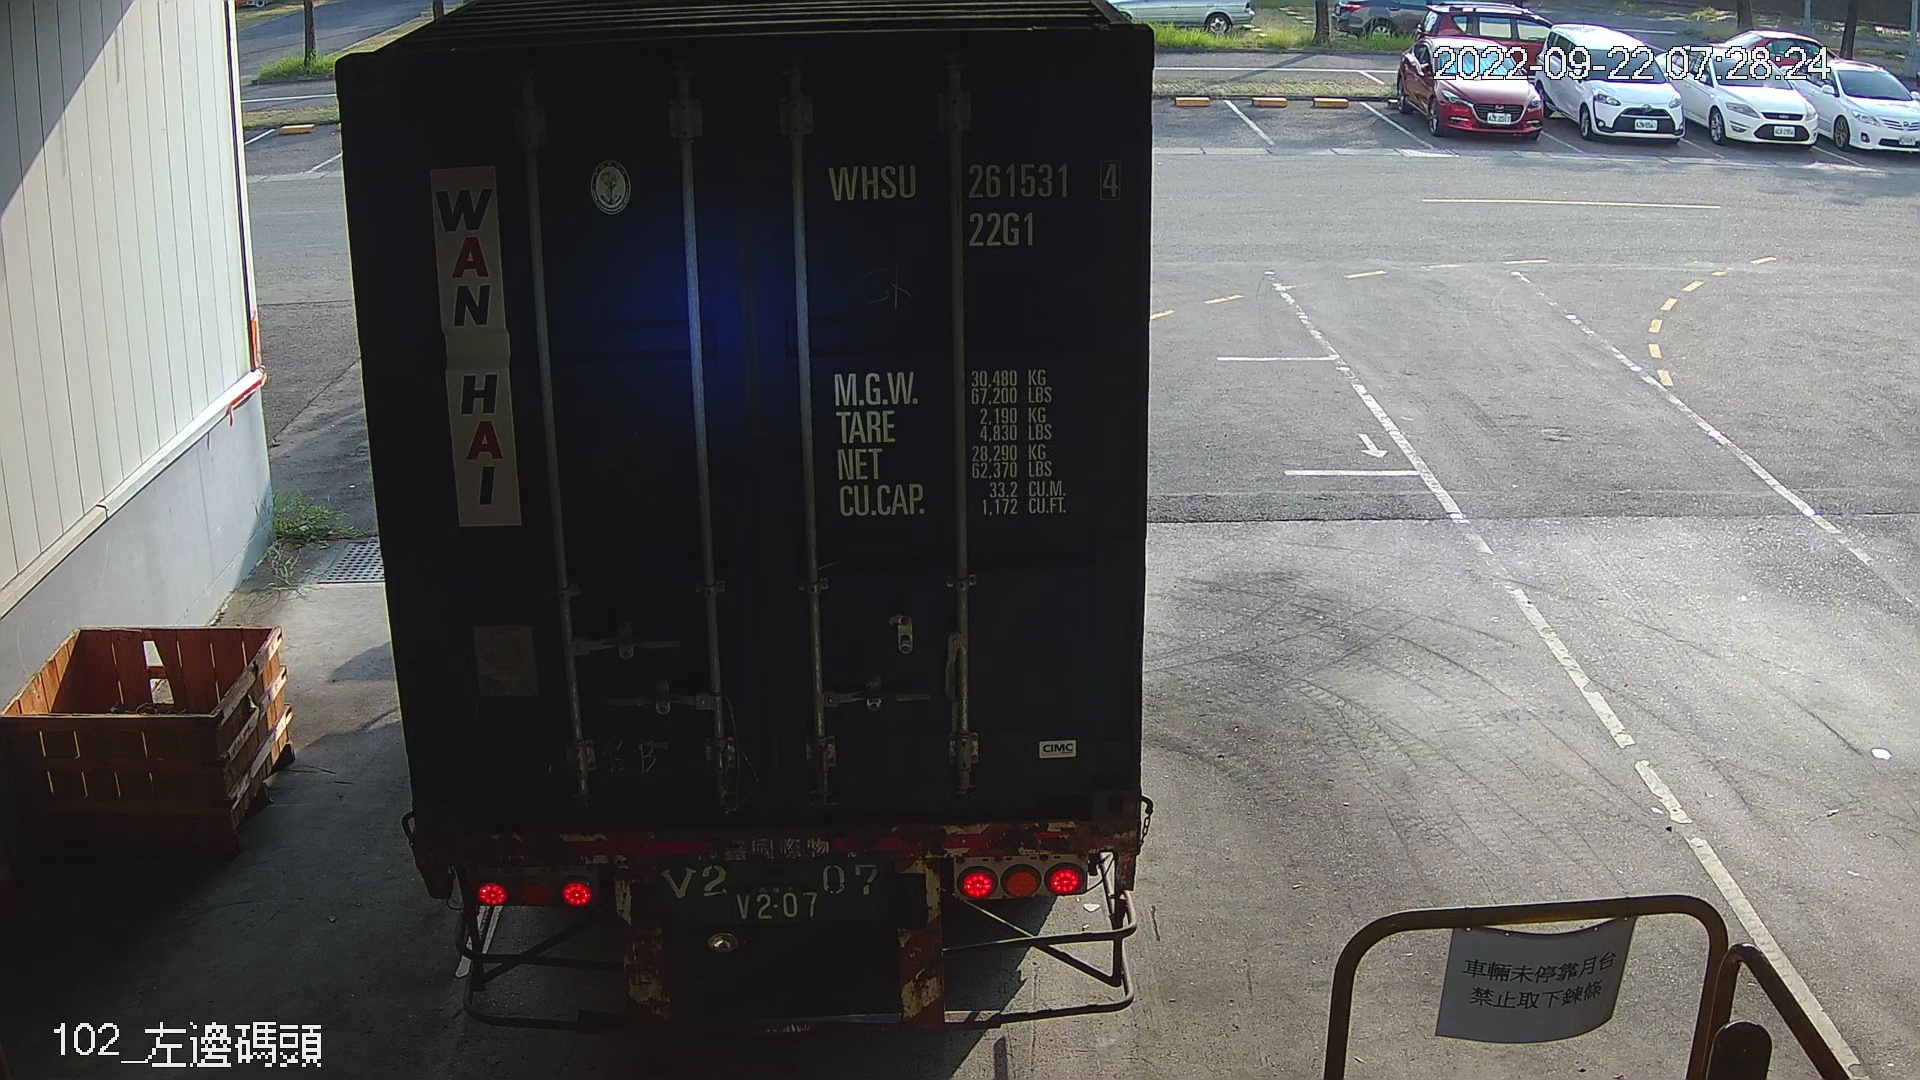container: (816, 152, 1131, 260)
